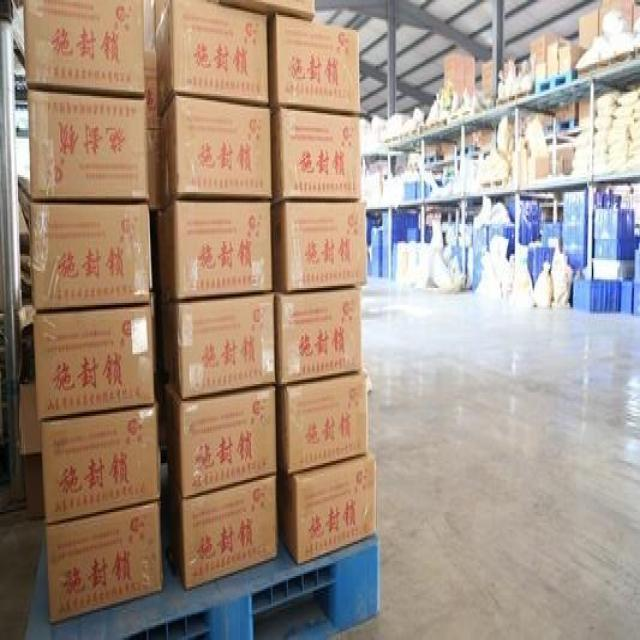box: (31, 296, 161, 421), (45, 499, 169, 625), (22, 86, 150, 205), (42, 399, 162, 520), (27, 198, 155, 310), (156, 0, 272, 115), (172, 467, 280, 590), (158, 90, 274, 204), (164, 285, 279, 399), (166, 383, 281, 496), (21, 0, 151, 95), (280, 450, 377, 570), (160, 197, 277, 296), (267, 11, 361, 117), (271, 196, 369, 294), (279, 370, 372, 473), (268, 103, 364, 201), (276, 287, 364, 382)
